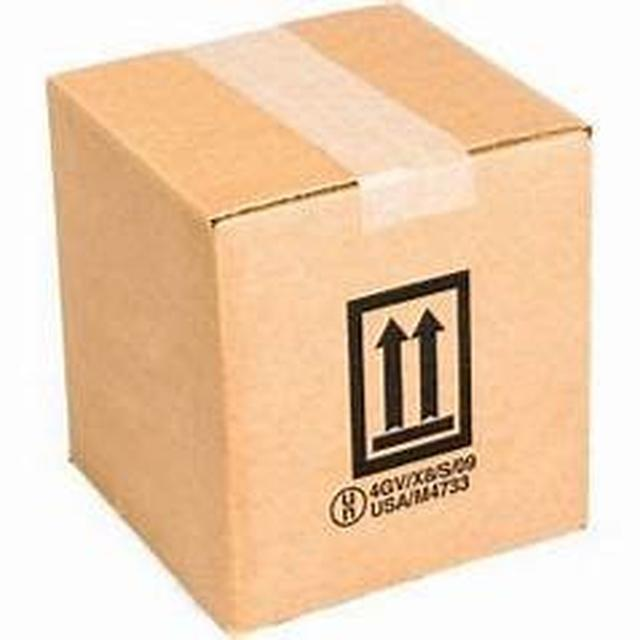box: (33, 30, 579, 635)
